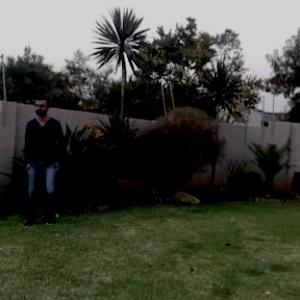follow: (23, 90, 63, 231)
